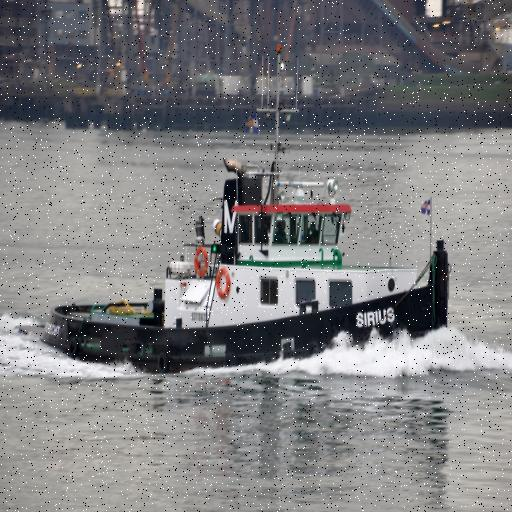tugboat: (13, 104, 454, 385)
